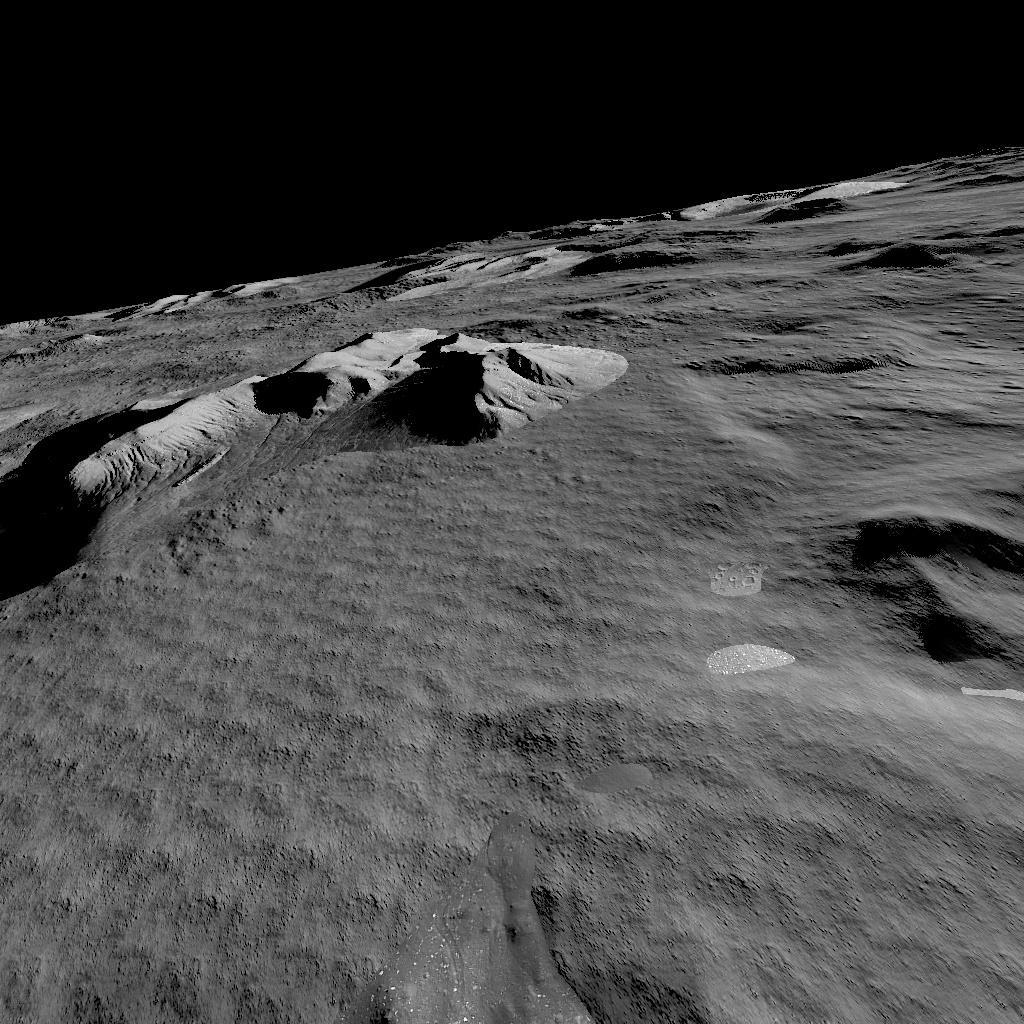Boulders: (1, 324, 633, 568), (363, 166, 1012, 301), (111, 273, 299, 317)
Crater: (0, 974, 1024, 1024), (829, 492, 1024, 696), (689, 336, 894, 407)
Plan surface: (4, 612, 802, 934)
